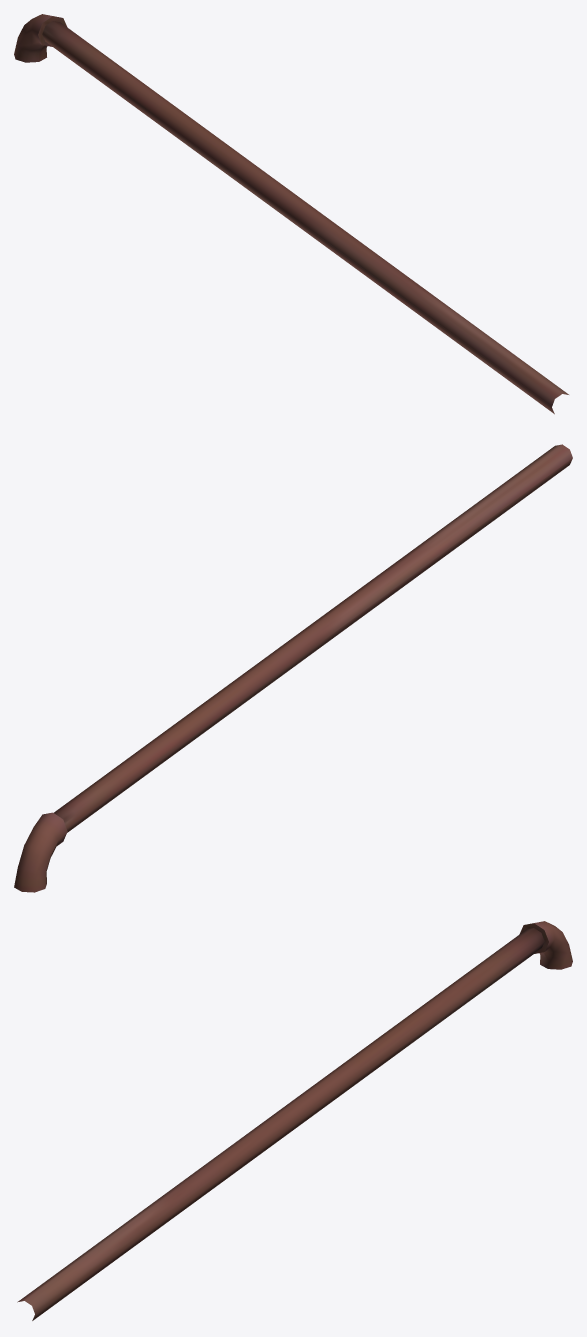
3 views of the same model, one above another, from view 1: azimuth 30°, elevation 25°; view 2: azimuth 150°, elevation 25°; view 3: azimuth 330°, elevation 25° (orthographic).
Visible parts, largest first — view 1: body0_model0_lod0_mesh0; view 2: body0_model0_lod0_mesh0; view 3: body0_model0_lod0_mesh0.
Part boxes in pixels (bbox=[...]): body0_model0_lod0_mesh0: bbox=[14, 14, 568, 414]; body0_model0_lod0_mesh0: bbox=[14, 444, 572, 892]; body0_model0_lod0_mesh0: bbox=[17, 921, 572, 1320].
Bounding box in the file's own units: 4.12 × 7.52 × 130.
1 material, 1 textured.
